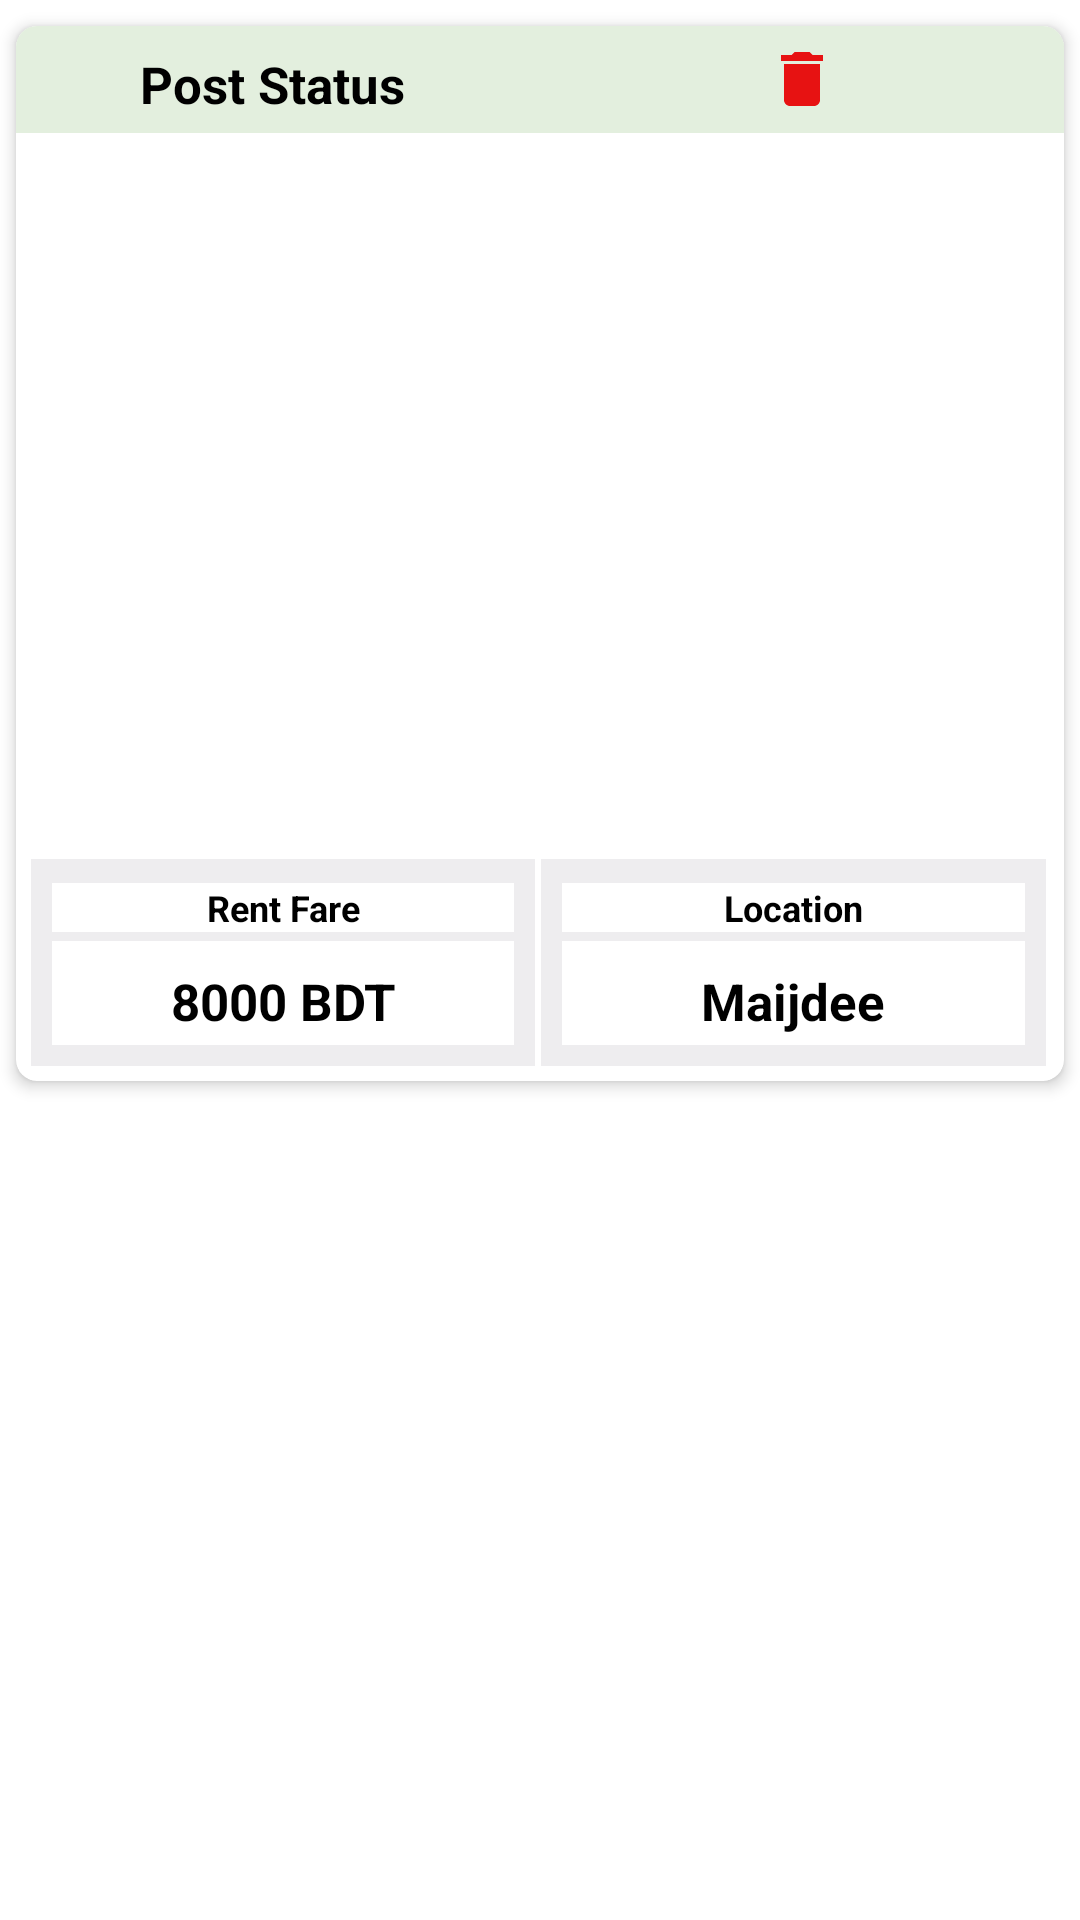

Named icons in this screenshot (1080 × 1920) and their bounding boxes, box=[x1, y1, x2, y2]:
delete: box=[781, 52, 823, 106]
